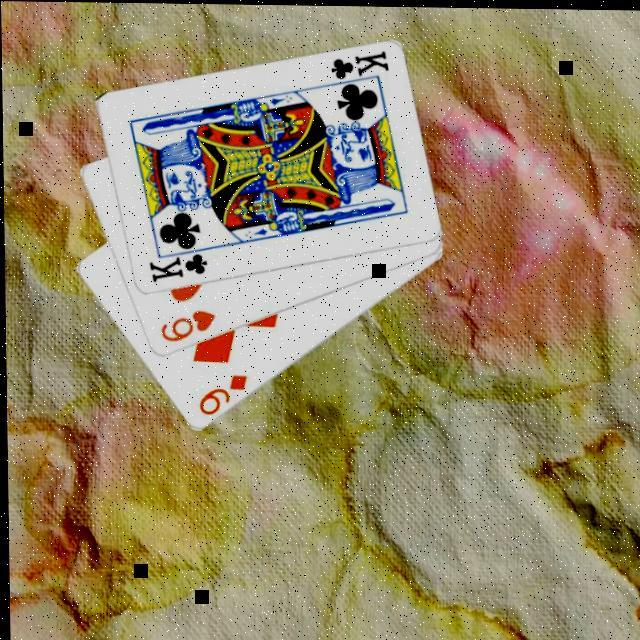6H: (156, 306, 218, 346)
9D: (194, 371, 251, 420)
KC: (324, 47, 392, 90), (146, 243, 213, 286)
